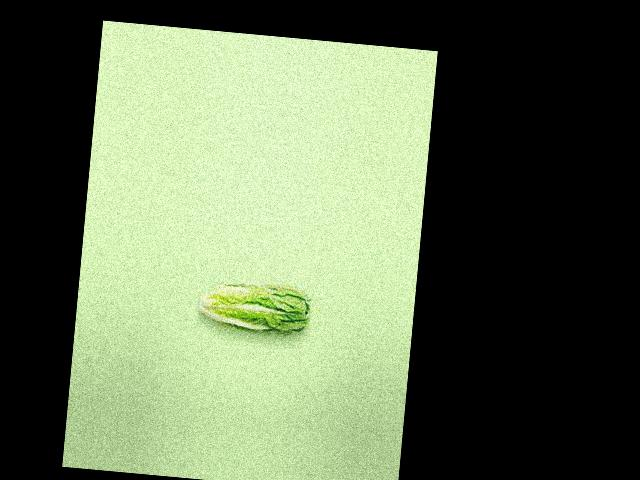lettuce: (176, 267, 319, 366)
